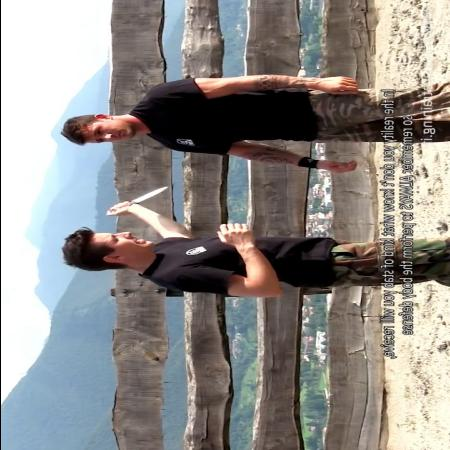long weapon: (102, 184, 170, 216)
